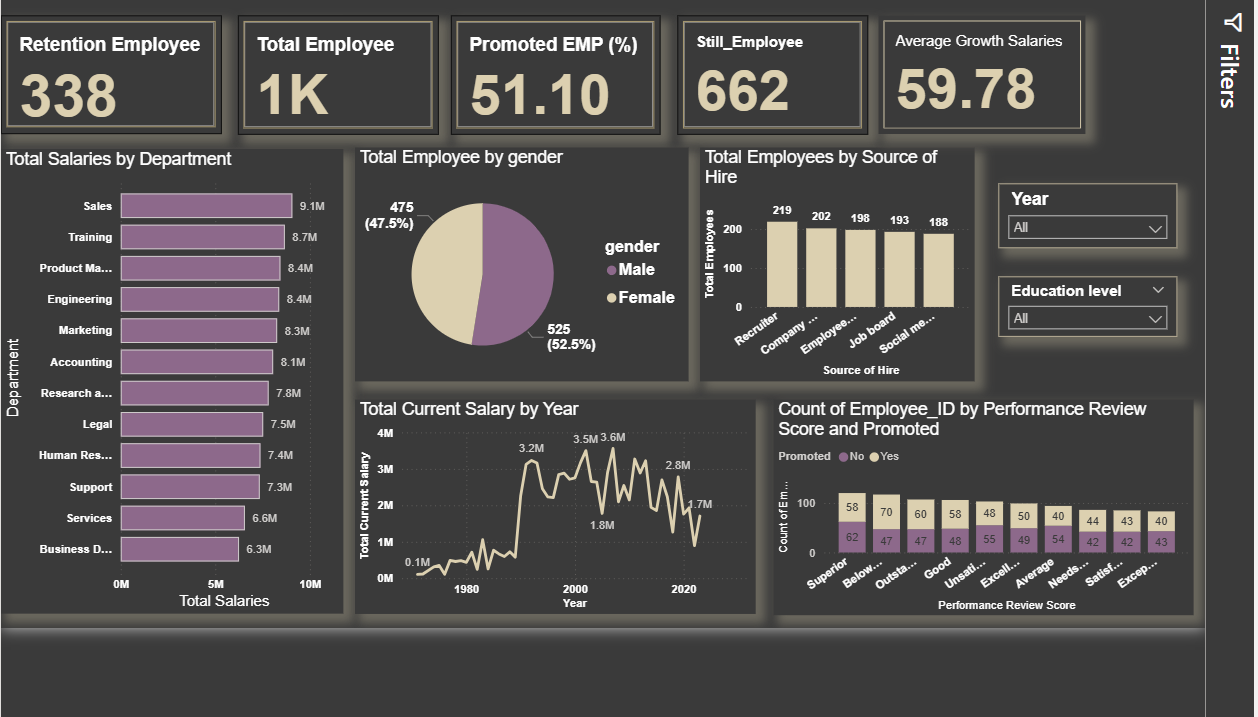

The page's visual inventory and layout, read from the dashboard file:
{"tool":"powerbi","page":{"name":"Dashboard","canvas":[1280,720],"ordinal":1},"visuals":[{"type":"textbox","box":[364.2,0,606.4,67.2],"z":0},{"type":"cardVisual","fields":{"Data":["CountNonNull(Retention.Employee_ID)"]},"box":[0,68.6,234.4,126],"z":1000},{"type":"cardVisual","fields":{"Data":["CountNonNull(Compenstaion.Employee_ID)"]},"box":[251.4,68,213.4,126.5],"z":2000},{"type":"cardVisual","fields":{"Data":["Compenstaion.Promoted EMP"]},"box":[479,68,222.9,126.5],"z":3000},{"type":"cardVisual","fields":{"Data":["Compenstaion.Still_Employee"]},"box":[719.3,68,202.4,126.5],"z":4000},{"type":"clusteredBarChart","fields":{"Category":["Employee.Department"],"Y":["Sum(Compenstaion.Current Salary)"]},"box":[0,211,364.2,493.9],"z":5000},{"type":"pieChart","fields":{"Category":["Employee.gender"],"Y":["CountNonNull(Employee.Employee_ID)"]},"box":[376.7,209.4,354.8,248.5],"z":6000},{"type":"columnChart","fields":{"Category":["Hiring.Source of Hire"],"Y":["CountNonNull(Hiring.Employee_ID)"]},"box":[742.4,209.4,292.3,248.5],"z":7000},{"type":"lineChart","fields":{"Category":["Employee.Year"],"Y":["Sum(Compenstaion.Current Salary)"]},"box":[376.4,476.8,425.8,228],"z":8000},{"type":"cardVisual","fields":{"Data":["Compenstaion.AvgPositiveChange"]},"box":[932.9,68.6,220.1,126],"z":9000},{"type":"columnChart","fields":{"Category":["Performance.Performance Review Score"],"Series":["Compenstaion.Promoted"],"Y":["CountNonNull(Performance.Employee_ID)"]},"box":[821.3,476.8,446.5,229.6],"z":10000},{"type":"slicer","fields":{"Values":["Employee.Year"]},"box":[1060.5,247.2,189.8,68.6],"z":10001},{"type":"slicer","fields":{"Values":["Employee.Education level"]},"box":[1060.5,346.1,189.8,63.8],"z":10002}]}

Visuals, with their boxes in screenshot pixels (x1, y1, x2, y2), scaled from the page's 1280x720 canvas onto the 1258x717 screenshot:
textbox: x1=358 y1=0 x2=954 y2=67
cardVisual - CountNonNull(Retention.Employee_ID): x1=0 y1=68 x2=230 y2=194
cardVisual - CountNonNull(Compenstaion.Employee_ID): x1=247 y1=68 x2=457 y2=194
cardVisual - Compenstaion.Promoted EMP: x1=471 y1=68 x2=690 y2=194
cardVisual - Compenstaion.Still_Employee: x1=707 y1=68 x2=906 y2=194
clusteredBarChart - Employee.Department x Sum(Compenstaion.Current Salary): x1=0 y1=210 x2=358 y2=702
pieChart - Employee.gender x CountNonNull(Employee.Employee_ID): x1=370 y1=209 x2=719 y2=456
columnChart - Hiring.Source of Hire x CountNonNull(Hiring.Employee_ID): x1=730 y1=209 x2=1017 y2=456
lineChart - Employee.Year x Sum(Compenstaion.Current Salary): x1=370 y1=475 x2=788 y2=702
cardVisual - Compenstaion.AvgPositiveChange: x1=917 y1=68 x2=1133 y2=194
columnChart - Performance.Performance Review Score x Compenstaion.Promoted: x1=807 y1=475 x2=1246 y2=703
slicer - Employee.Year: x1=1042 y1=246 x2=1229 y2=314
slicer - Employee.Education level: x1=1042 y1=345 x2=1229 y2=408
